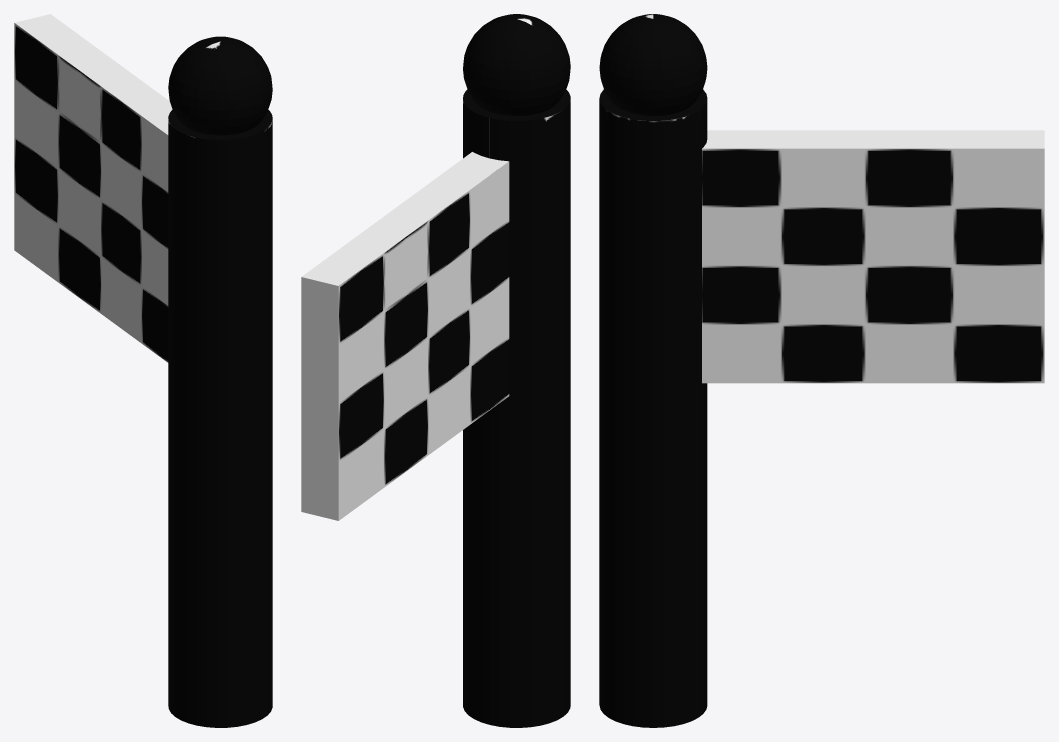
Rendered from gorl.obj.
The picture shows the model from 3 angles, left to right: view 1: azimuth 30°, elevation 25°; view 2: azimuth 150°, elevation 25°; view 3: azimuth 270°, elevation 25°; orthographic projection. The views are drawn at different scales.
Visible parts, largest first — view 1: 立方体; view 2: 立方体; view 3: 立方体.
Part boxes in pixels (box(x1,y1,x2,y2)): 立方体: box(14, 14, 272, 727); 立方体: box(301, 14, 570, 727); 立方体: box(599, 14, 1044, 727).
Bounding box in the file's own units: 0.5 × 3.51 × 2.06.
Materials: 1 (1 with a texture image).
